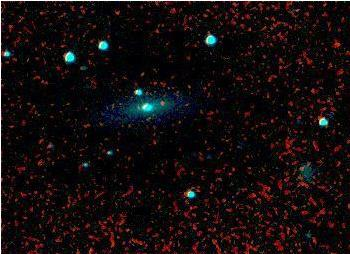star: (151, 89, 181, 119)
